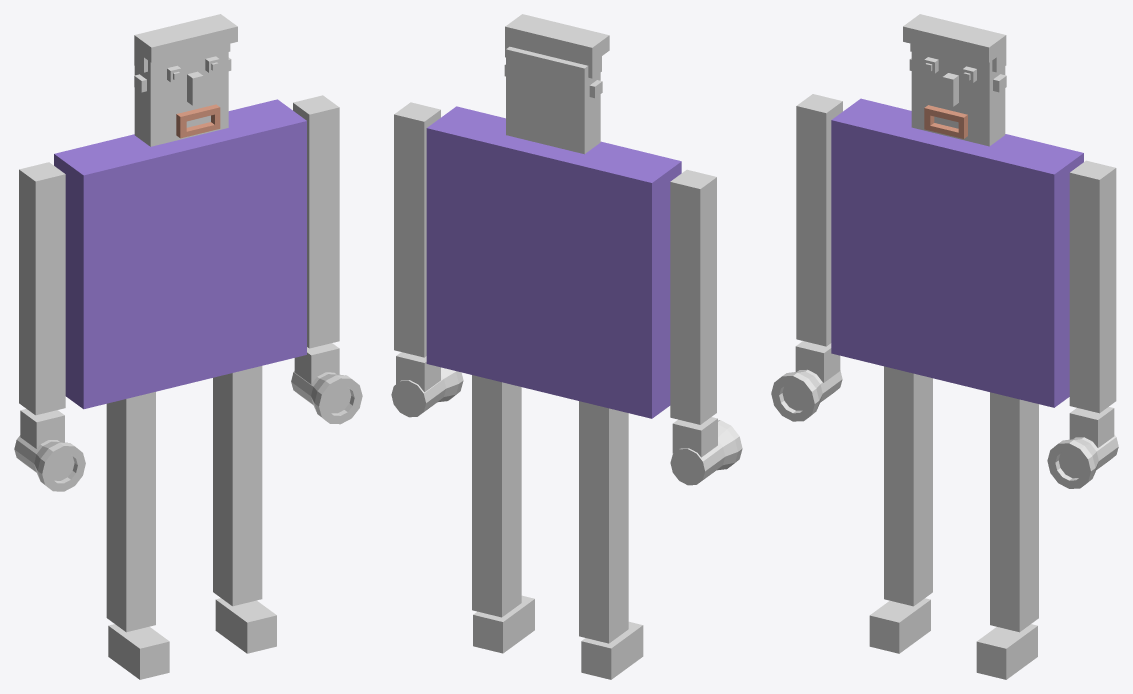
3 views of the same model, side by side, from view 1: azimuth 30°, elevation 25°; view 2: azimuth 150°, elevation 25°; view 3: azimuth 330°, elevation 25° (orthographic).
Visible parts, largest first — view 1: Cube, Cube.004, Cube.003, Cube.005, Cube.002, Cube.001, Cube.015, Cube.012, Cube.011, Cylinder, Cylinder.001, Cube.007 (+3 smaller); view 2: Cube, Cube.003, Cube.004, Cube.005, Cube.002, Cube.001, Cube.015, Cube.012, Cube.011, Cylinder, Cylinder.001, Cube.007 (+1 smaller); view 3: Cube, Cube.002, Cube.005, Cube.004, Cube.003, Cube.001, Cube.015, Cube.011, Cube.012, Cylinder.001, Cylinder, Cube.006 (+3 smaller).
Part boxes in pixels (x1,y1,x2,y2): Cube: (54, 99, 306, 409); Cube.004: (213, 366, 262, 606); Cube.003: (19, 162, 65, 415); Cube.005: (106, 392, 155, 632); Cube.002: (293, 95, 339, 348); Cube.001: (134, 44, 228, 146); Cube.015: (134, 14, 237, 72); Cube.012: (108, 624, 169, 679); Cube.011: (215, 598, 276, 653); Cylinder: (14, 435, 85, 491); Cylinder.001: (291, 371, 362, 424); Cube.007: (20, 409, 64, 448); Cube: (426, 106, 681, 418); Cube.003: (670, 169, 716, 424); Cube.004: (472, 375, 521, 617); Cube.005: (579, 401, 628, 643); Cube.002: (394, 102, 440, 357); Cube.001: (506, 46, 600, 154); Cube.015: (505, 14, 609, 78); Cube.012: (581, 621, 643, 679); Cube.011: (473, 595, 534, 653); Cylinder: (670, 420, 742, 485); Cylinder.001: (391, 367, 463, 417); Cube.007: (672, 417, 717, 457); Cube: (831, 98, 1083, 407); Cube.002: (1069, 160, 1116, 413); Cube.005: (884, 366, 932, 606); Cube.004: (990, 392, 1038, 632); Cube.003: (796, 94, 842, 346); Cube.001: (911, 44, 1005, 146); Cube.015: (903, 14, 1006, 72); Cube.011: (976, 624, 1037, 679); Cube.012: (869, 598, 930, 653); Cylinder.001: (1047, 434, 1118, 488); Cylinder: (771, 369, 842, 421); Cube.006: (1069, 407, 1114, 447).
Size of the model in its own units: 2.87 by 5.29 by 0.604.
